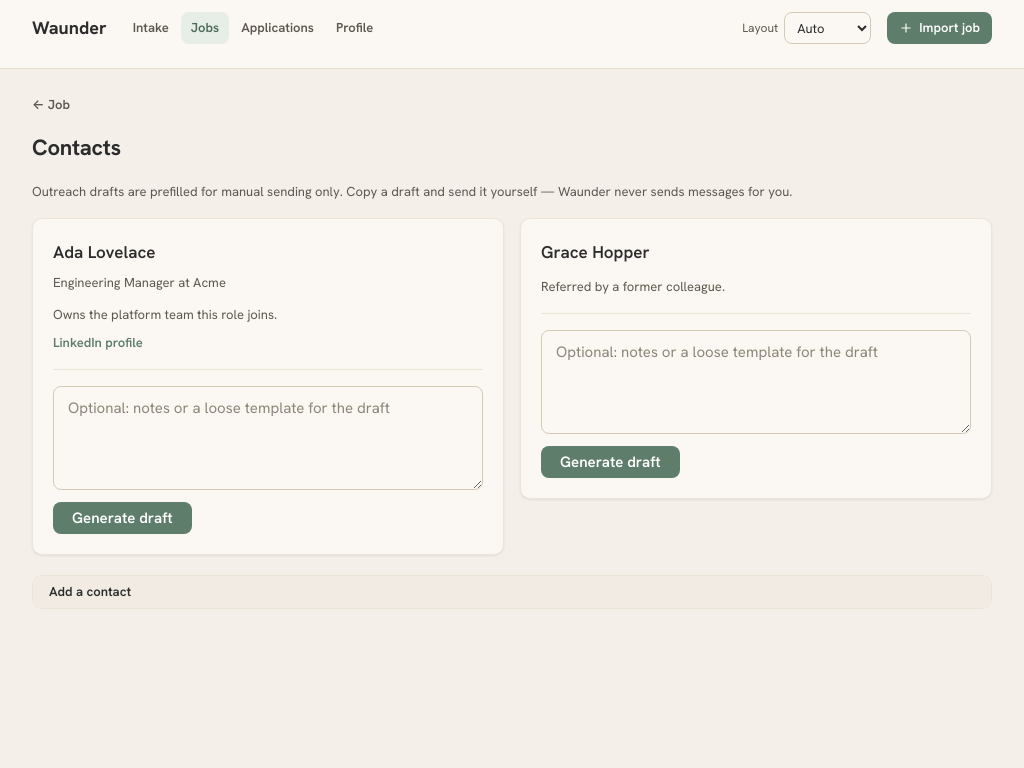
Test: outreach generation › drafts for the candidate clicked, from the template typed, for manual copying
Expected: the element with class "contact-create" is shown, [32,575,992,609]
In the text box with class "contact-outreach-template" below "Ada Lovelace": (268, 438) [53,386,483,490], type "Keep it short."
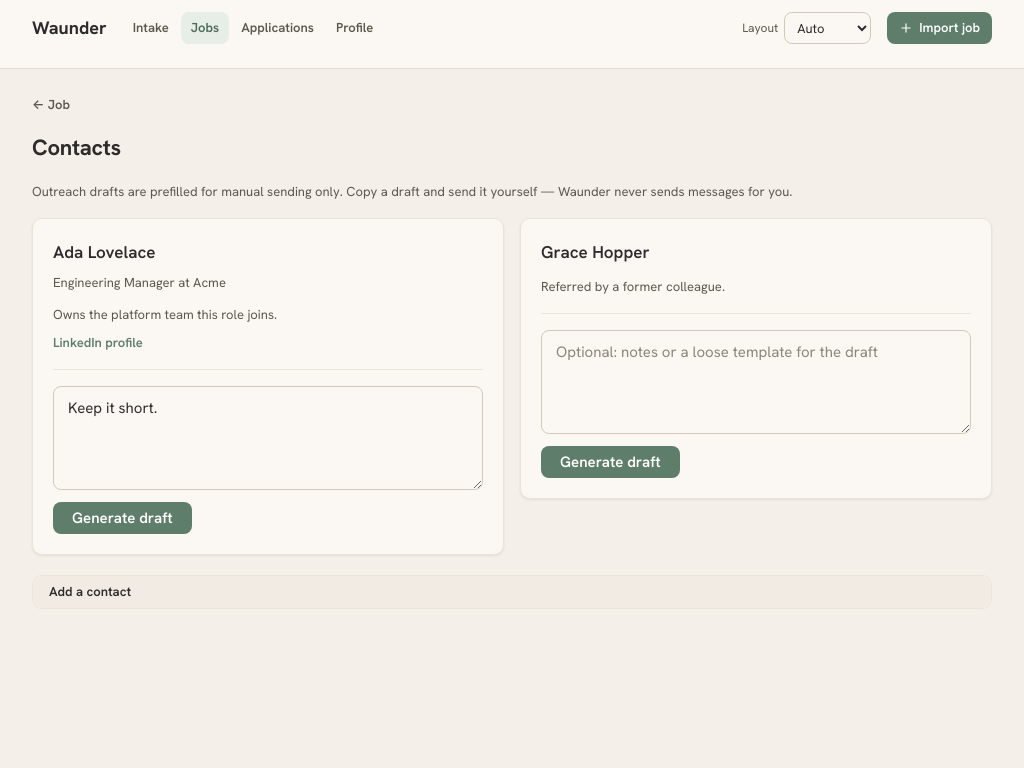
Click the button with class "contact-outreach-generate" below "Ada Lovelace": click(122, 518) [53,502,192,534]
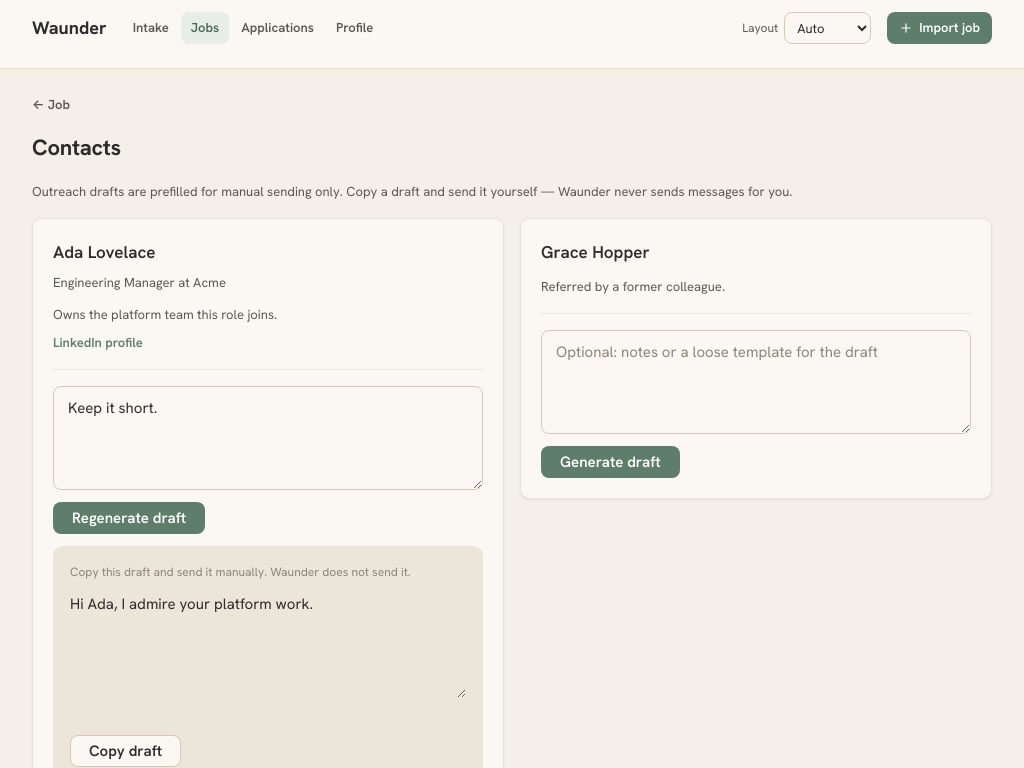
Result: the text box with class "contact-outreach-message" holds "Hi Ada, I admire your platform work." at [70,594,466,698]
Result: the text with class "contact-outreach-manual" reads "Copy this draft and send it manually. Waunder does not send it." at [70,564,411,580]
Result: the button with class "contact-outreach-generate" reads "Regenerate draft" at [53,502,205,534]
